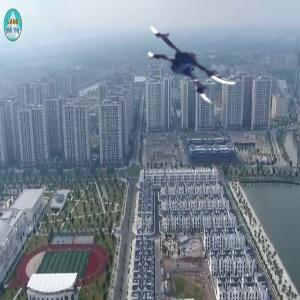drone: (143, 7, 246, 110)
